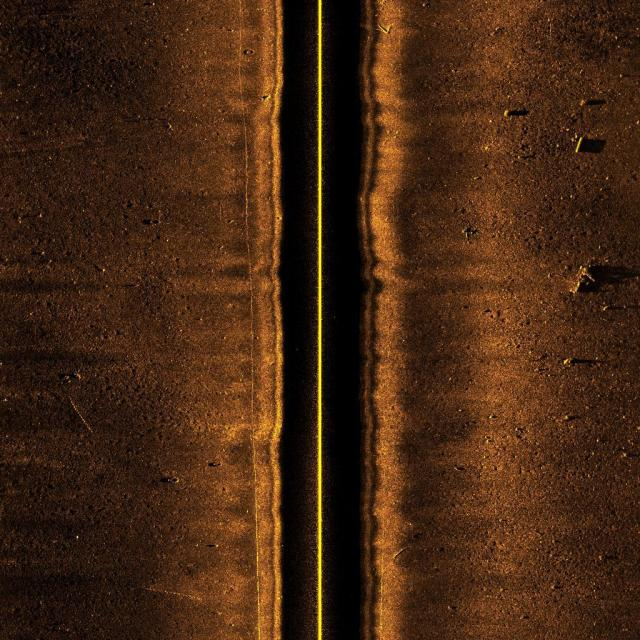mine: (572, 134, 609, 157), (576, 92, 610, 110), (498, 106, 530, 121), (562, 355, 576, 367)
other: (566, 261, 597, 305)
